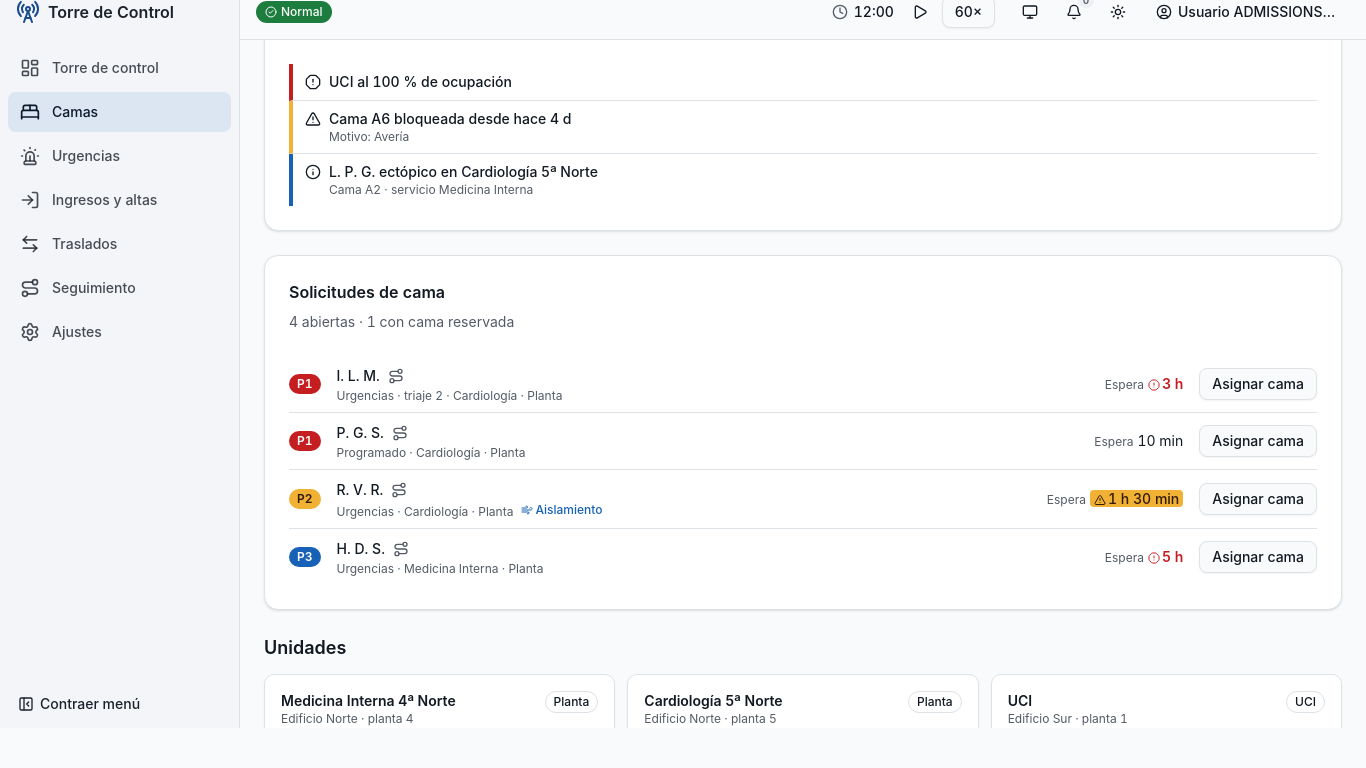
Test: assigning a bed › reserves the chosen bed as the user: event, toast, request leaves the list, sheet closes
(page scrolled)
Check: the list named "Solicitudes abiertas" is shown, box [289, 356, 1317, 585]
Click the button "Asignar cama" in the row of "I. L. M.".
click(1258, 384)  # box [1199, 368, 1317, 400]
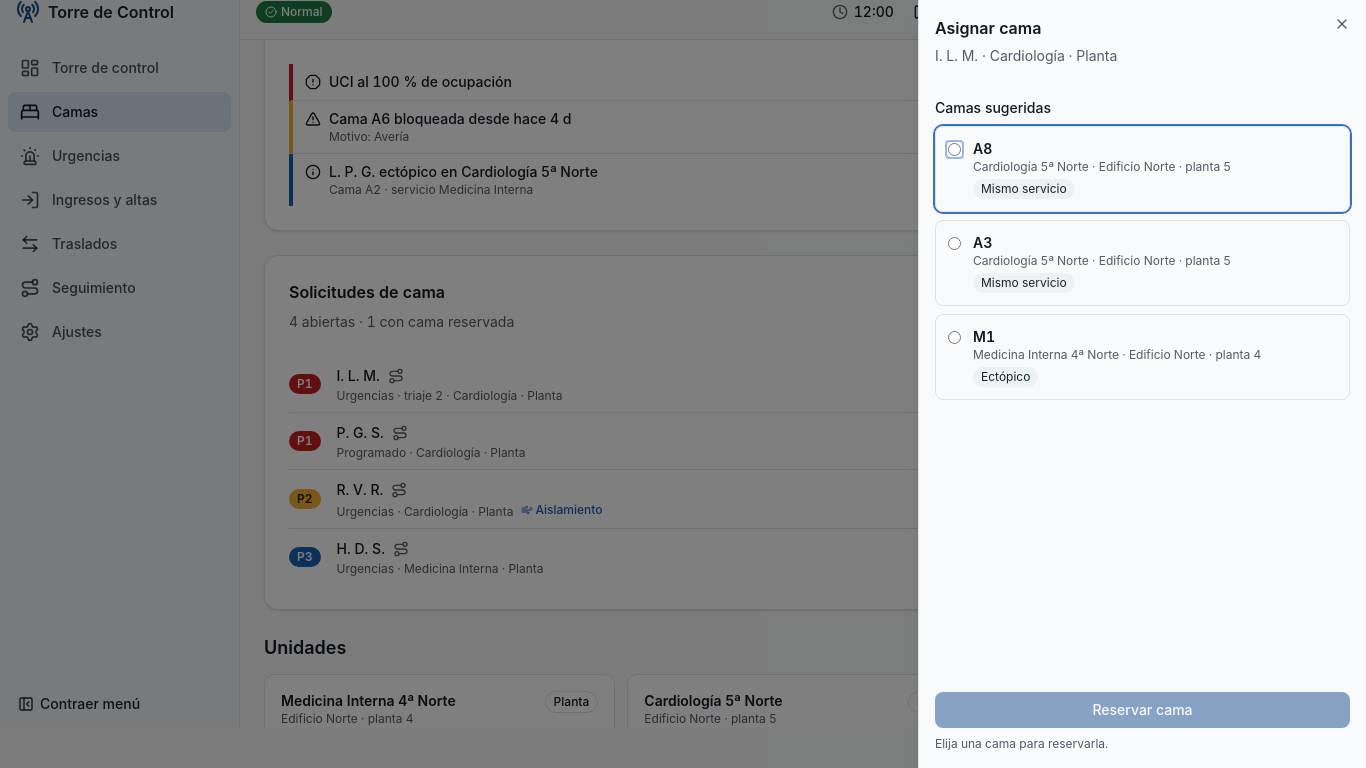
Click the radio button labelled "A8".
click(954, 150)  # box [948, 143, 961, 156]
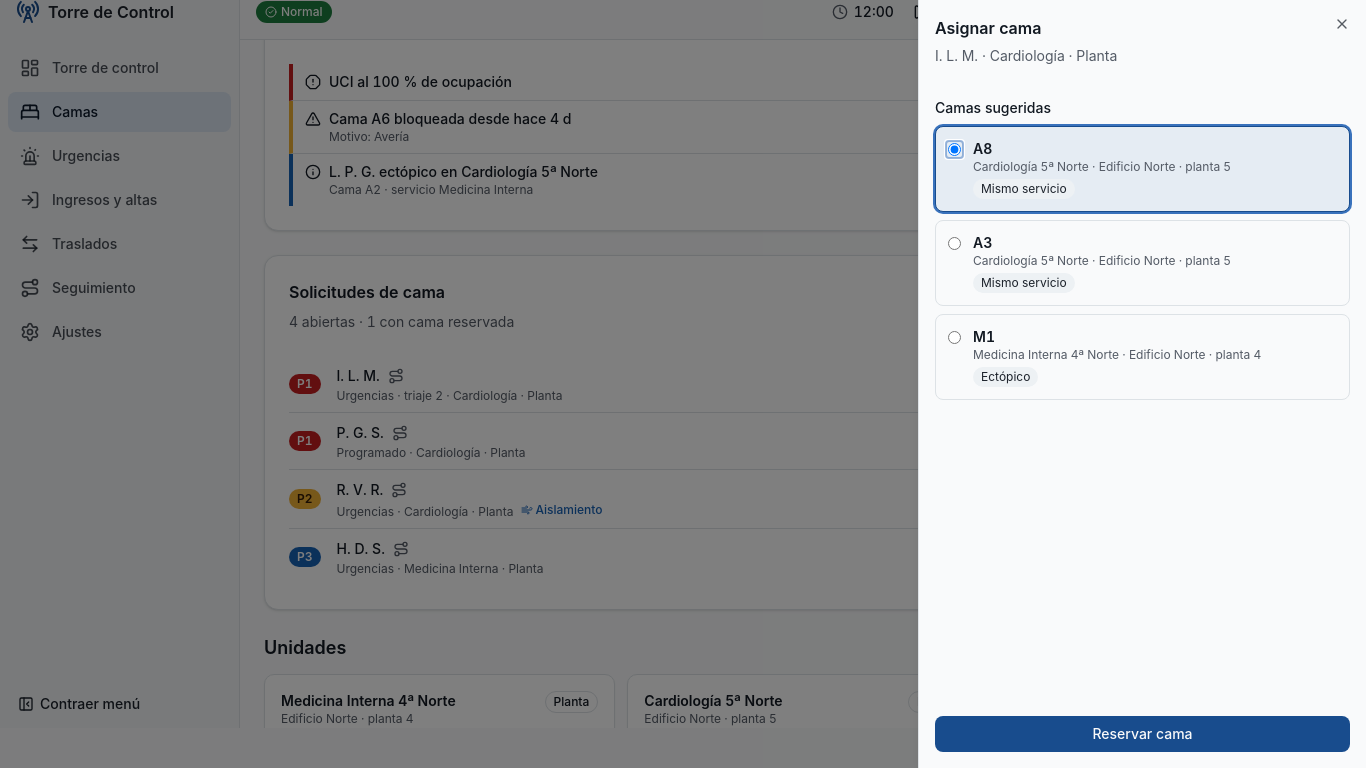
Click the button "Reservar cama".
click(1142, 734)  # box [935, 716, 1350, 752]
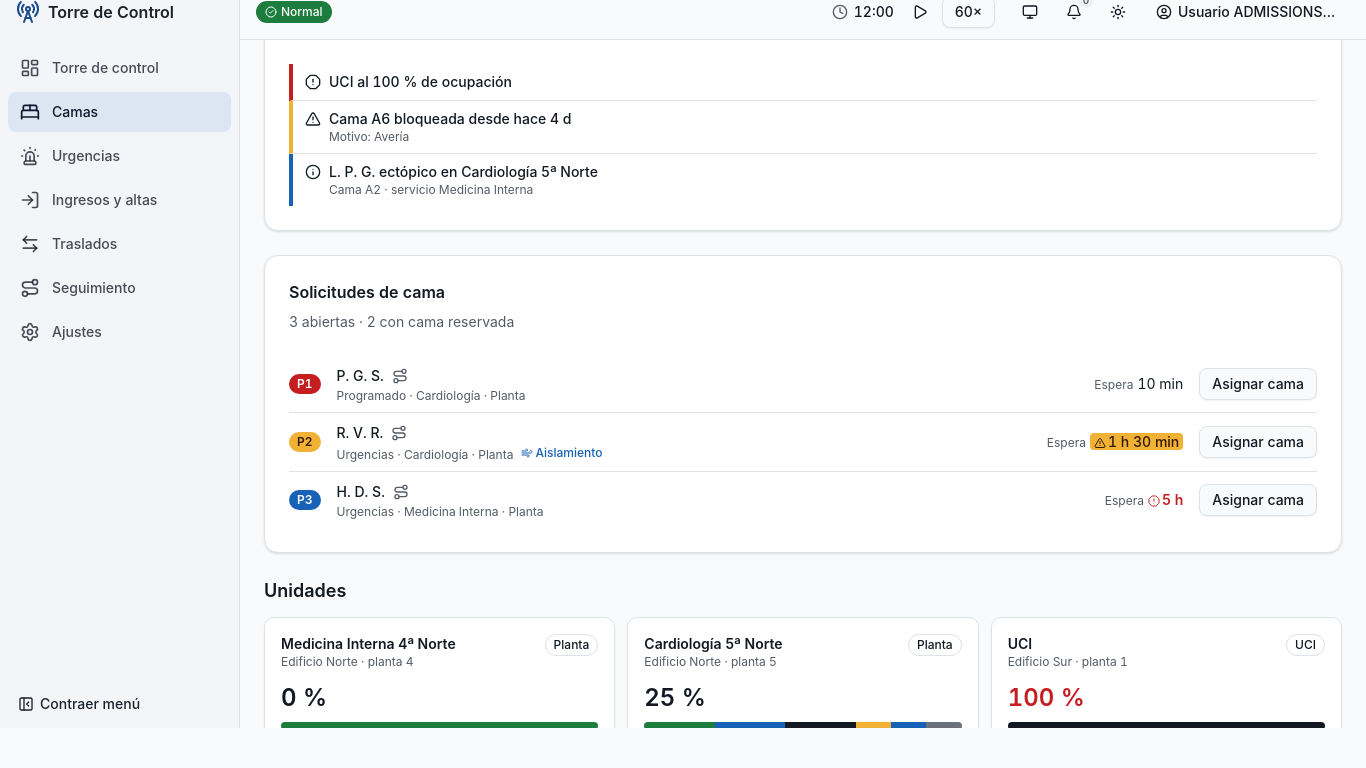
Check: the dialog is gone
